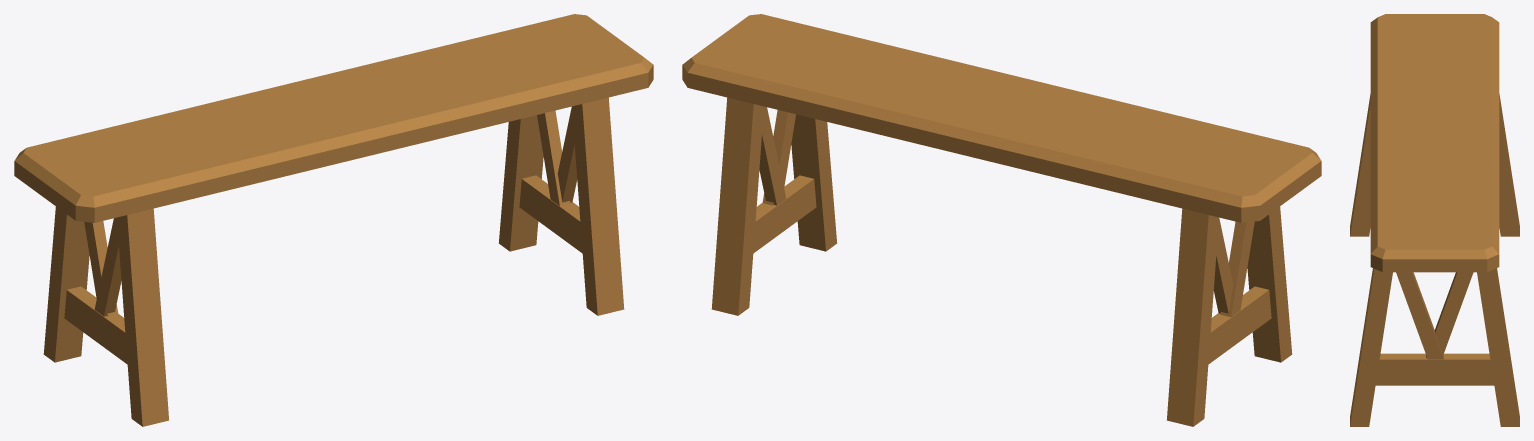
Rendered from SM_Furniture_BenchLong_Honey_01.fbx.
3 renders of one model, left to right at view 1: azimuth 30°, elevation 25°; view 2: azimuth 150°, elevation 25°; view 3: azimuth 270°, elevation 25°, orthographic. The views are drawn at different scales.
Visible parts, largest first — view 1: SM_Furniture_BenchLong_Honey_01; view 2: SM_Furniture_BenchLong_Honey_01; view 3: SM_Furniture_BenchLong_Honey_01.
Boxes of the visible parts, x1,y1,x2,y2 form: SM_Furniture_BenchLong_Honey_01: (14, 14, 653, 426); SM_Furniture_BenchLong_Honey_01: (682, 14, 1321, 426); SM_Furniture_BenchLong_Honey_01: (1350, 14, 1519, 426).
Bounding box in the file's own units: 1.2 × 0.45 × 0.356.
Materials: 1 (1 with a texture image).
